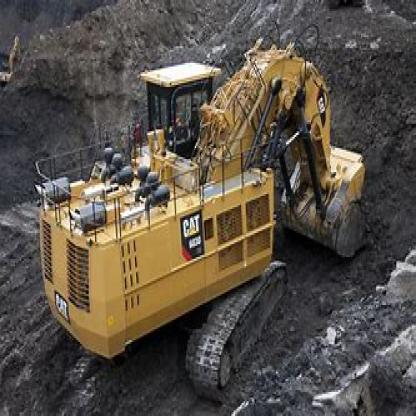excavator: (30, 35, 390, 381)
